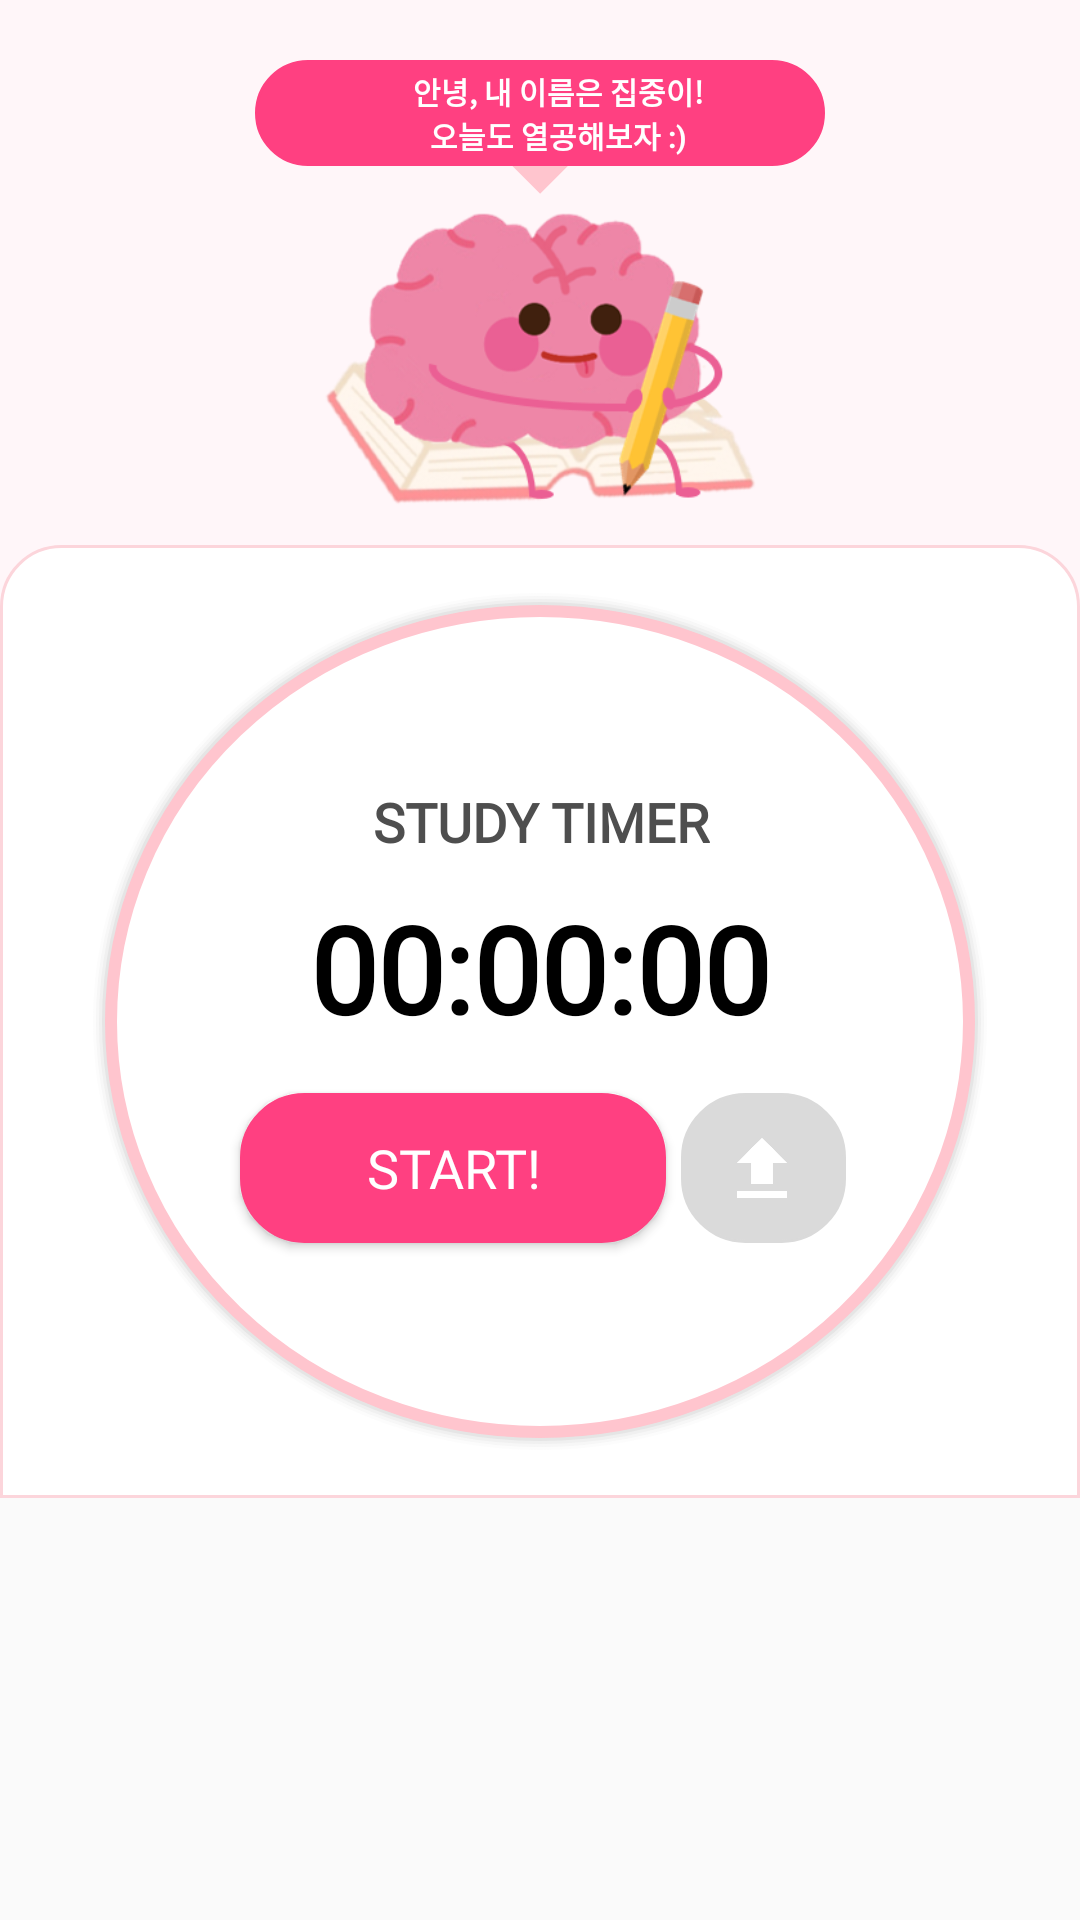

Screen size 1080 × 1920. Icon name, then its box in pixels as (x1, y1, x2, y2):
upload: (737, 1138, 787, 1198)
